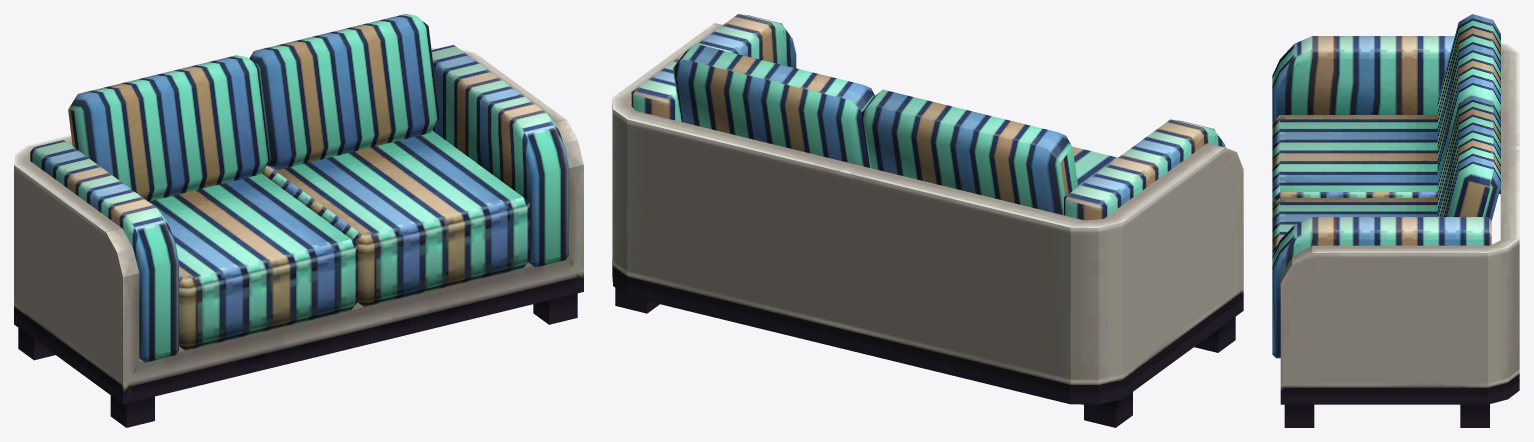
Rendered from furni_0200612_03.FBX.
The picture shows the model from 3 angles, left to right: view 1: azimuth 30°, elevation 25°; view 2: azimuth 150°, elevation 25°; view 3: azimuth 270°, elevation 25°; orthographic projection. The views are drawn at different scales.
Parts seen in each view (by area): view 1: furni_0200612_03; view 2: furni_0200612_03; view 3: furni_0200612_03.
Boxes of the visible parts, <box> form: furni_0200612_03: <box>14,14,583,427</box>; furni_0200612_03: <box>612,14,1243,427</box>; furni_0200612_03: <box>1272,14,1519,427</box>.
Bounding box in the file's own units: 159 × 80.62 × 77.55.
Materials: 1 (1 with a texture image).
